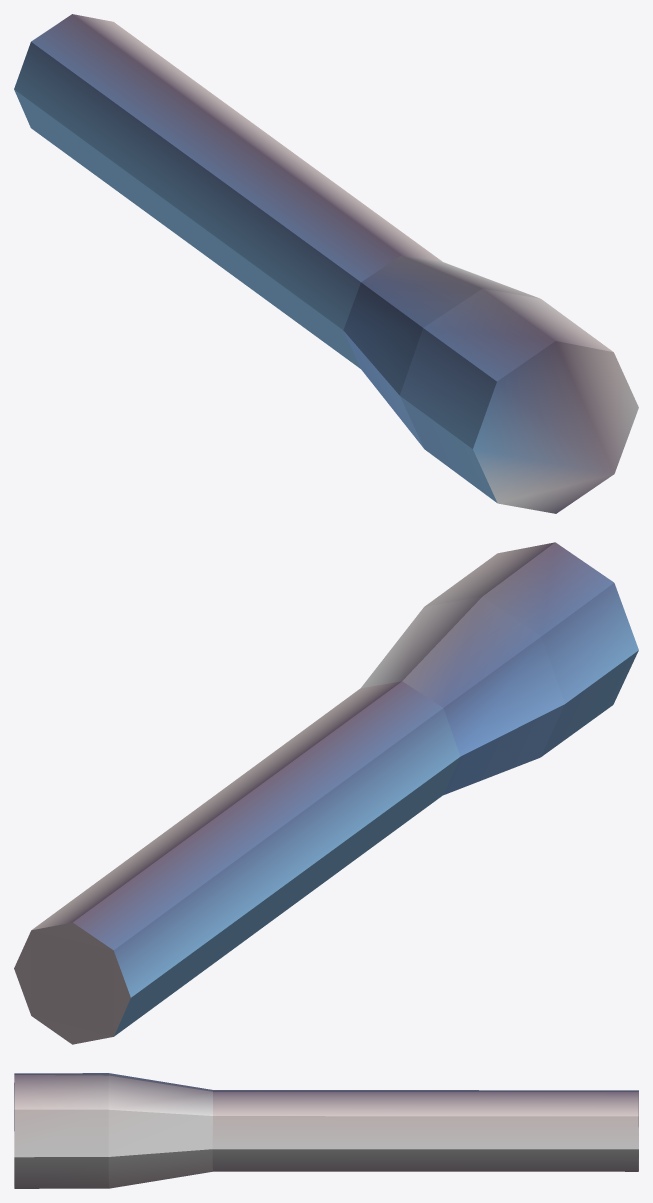
Rendered from Lamp.fbx.
3 renders of one model, top to bottom at view 1: azimuth 30°, elevation 25°; view 2: azimuth 150°, elevation 25°; view 3: azimuth 270°, elevation 25°, orthographic. The views are drawn at different scales.
Visible parts, largest first — view 1: dementium01-2025-01-18-22-03-45-163.001; view 2: dementium01-2025-01-18-22-03-45-163.001; view 3: dementium01-2025-01-18-22-03-45-163.001.
Part boxes in pixels (box(x1,y1,x2,y2)): dementium01-2025-01-18-22-03-45-163.001: box(14, 14, 638, 513); dementium01-2025-01-18-22-03-45-163.001: box(14, 542, 638, 1044); dementium01-2025-01-18-22-03-45-163.001: box(14, 1073, 638, 1188).
Size of the model in its own units: 5.2 by 5.17 by 26.2.
